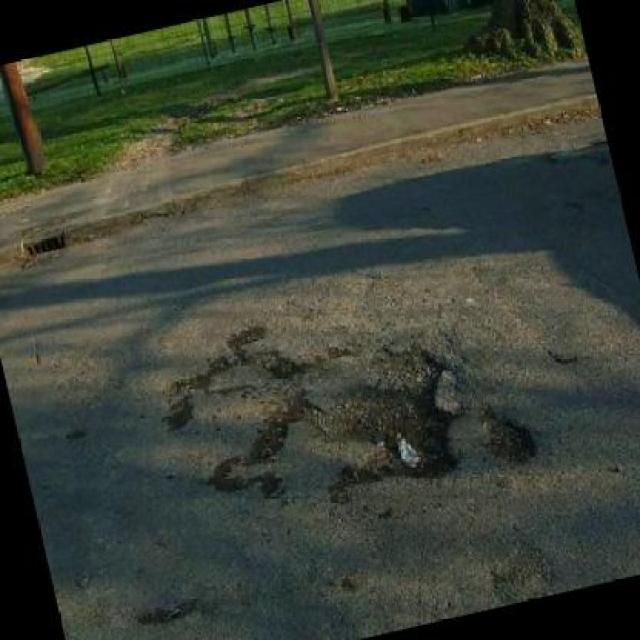pothole: (300, 324, 475, 504), (232, 388, 318, 464), (472, 400, 542, 472)
